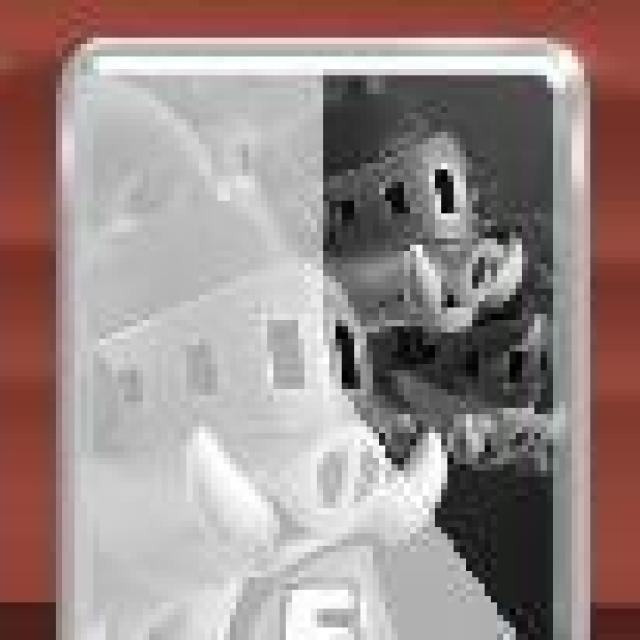Royal_Hogs: (56, 39, 600, 640)
